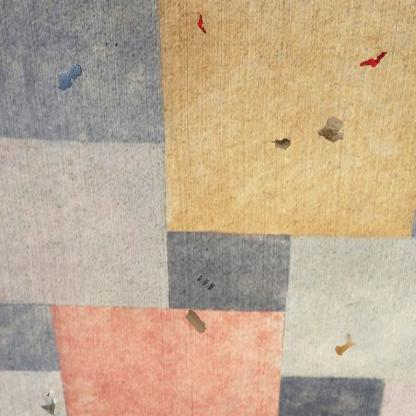dirty: (315, 115, 346, 144), (183, 307, 208, 335), (36, 388, 58, 415), (358, 50, 387, 70), (194, 272, 215, 292), (270, 136, 293, 153), (195, 12, 208, 34)
liquid: (56, 63, 82, 92), (334, 332, 356, 355)
